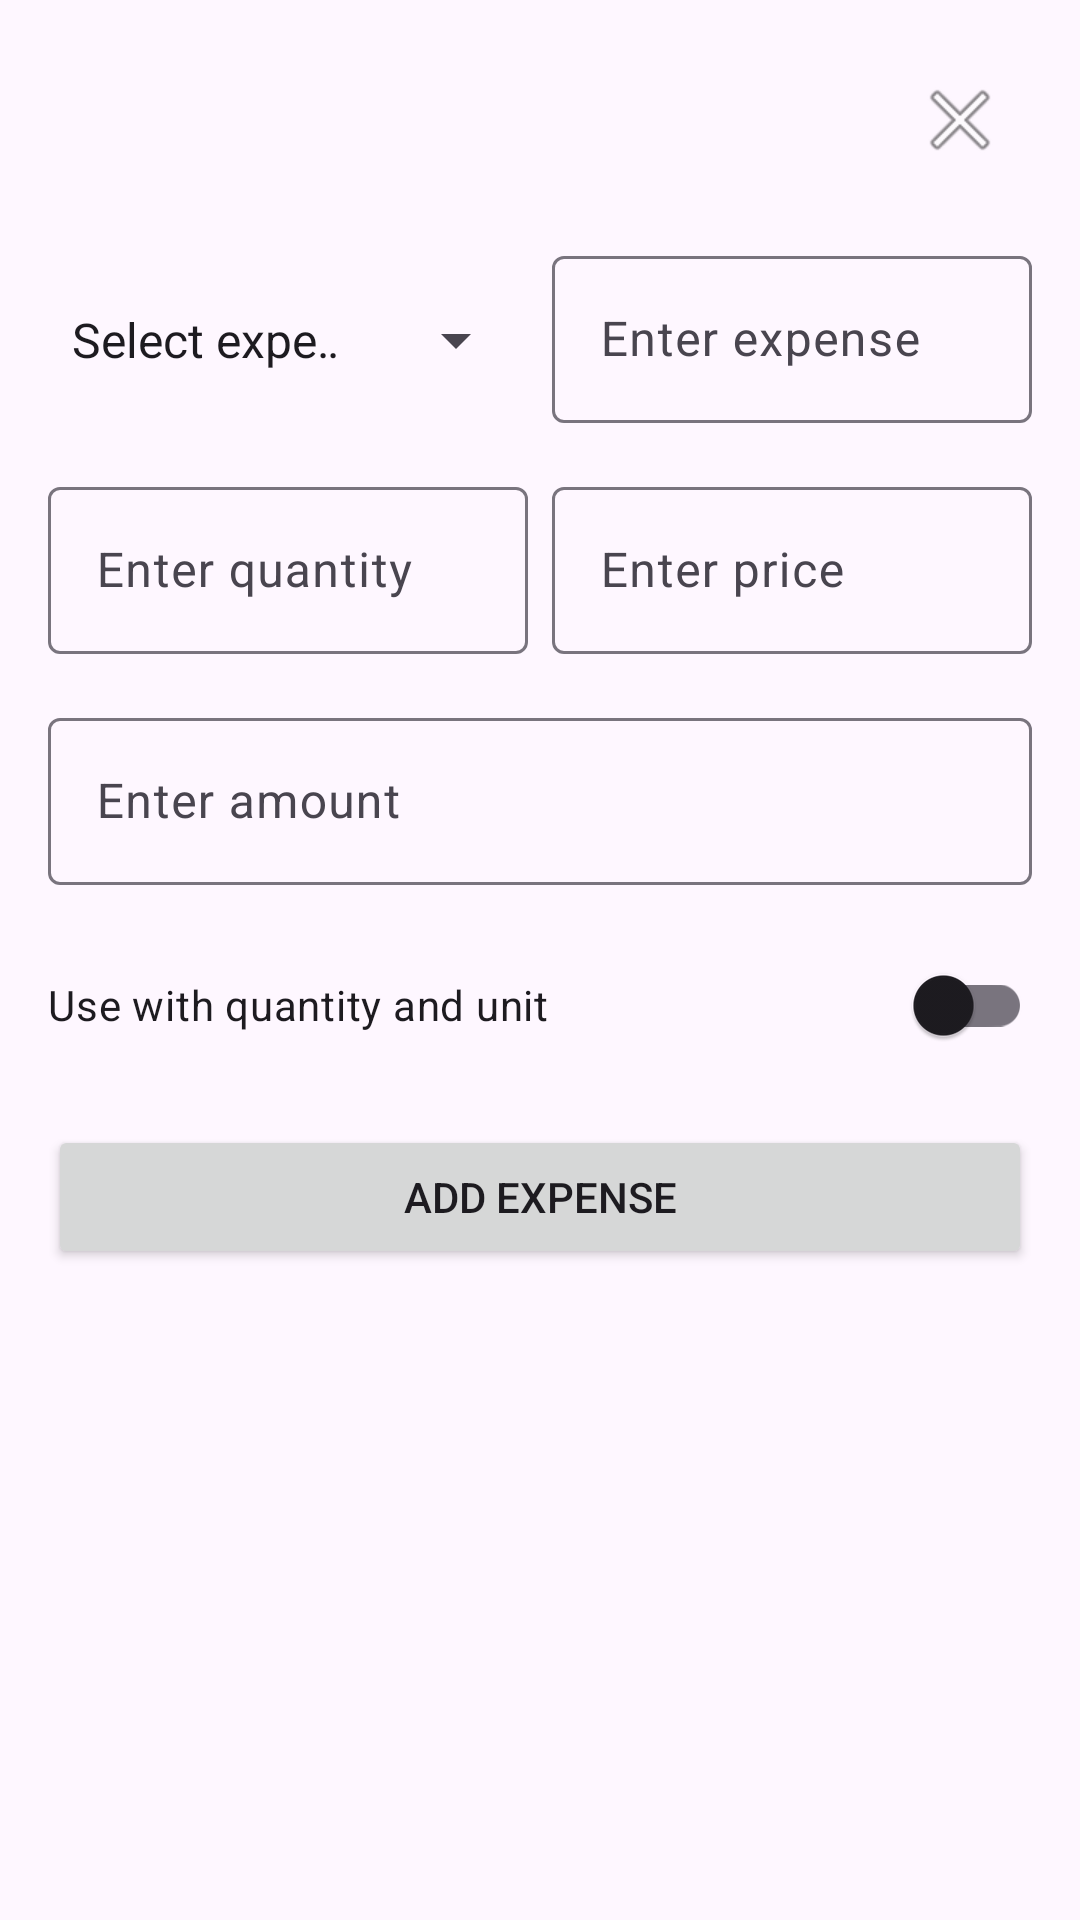

Screen size 1080px×1920px. Icon name, then its box in pixels as {"x1": x1, "y1": y1, "x2": x2, "y2": y2}:
close: {"x1": 930, "y1": 90, "x2": 990, "y2": 150}
